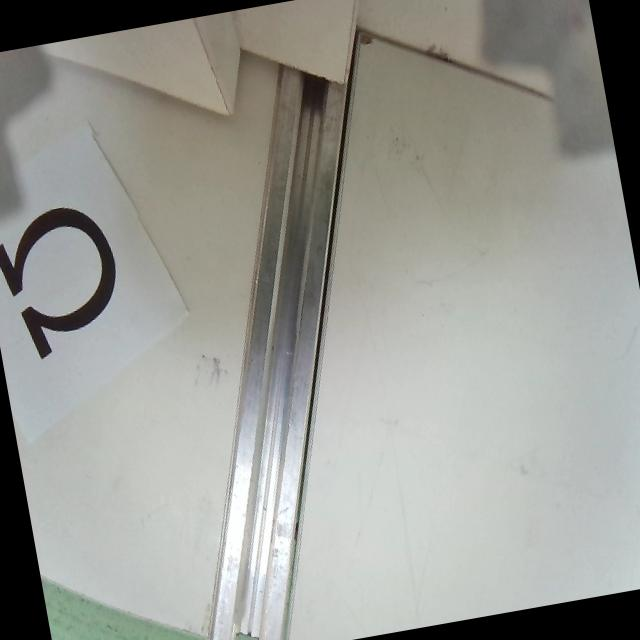OM: (0, 198, 131, 365)
